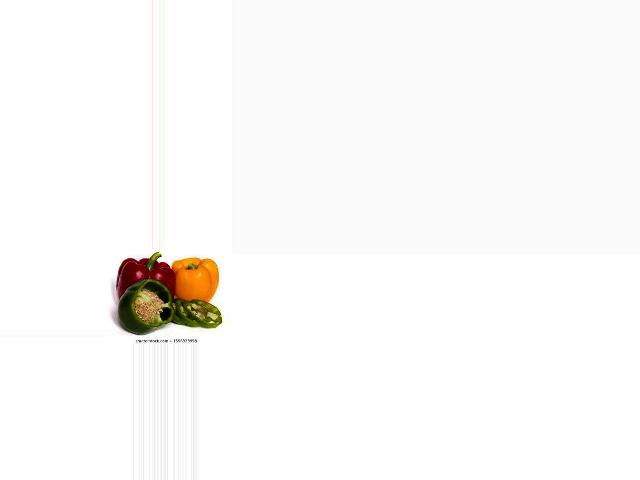bell_pepper: (112, 277, 174, 330)
